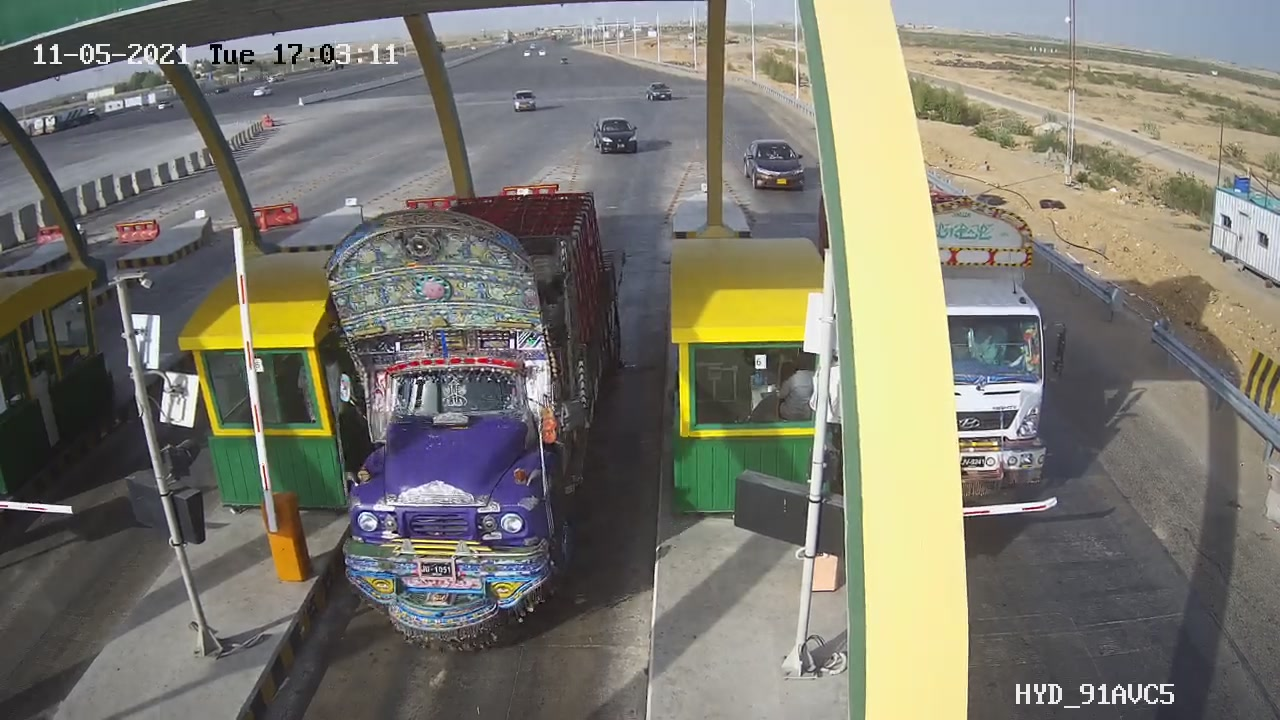F5: (282, 155, 642, 675)
